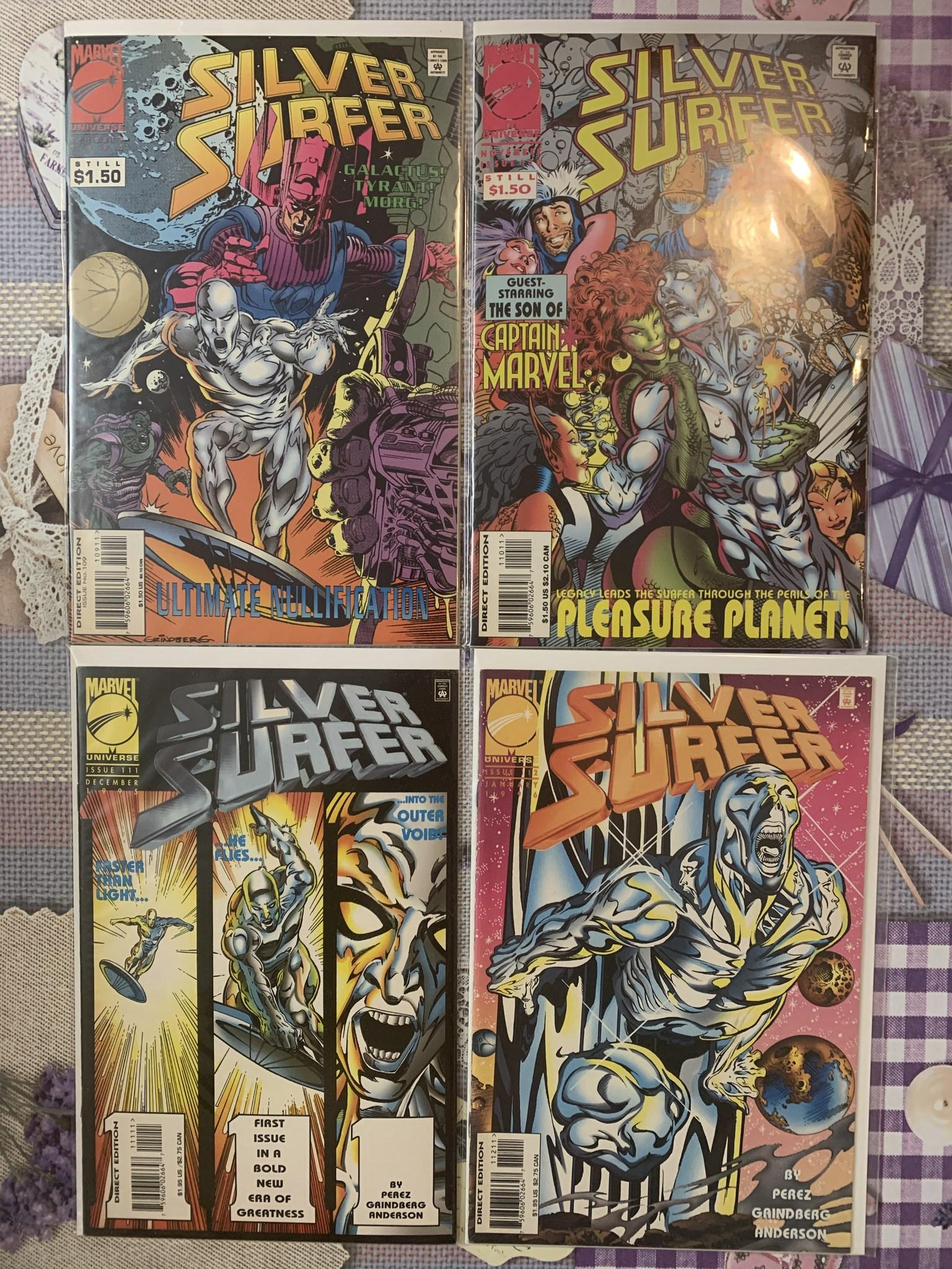comic: (456, 645, 884, 1255), (466, 17, 876, 653), (61, 20, 463, 645), (74, 647, 459, 1243)
